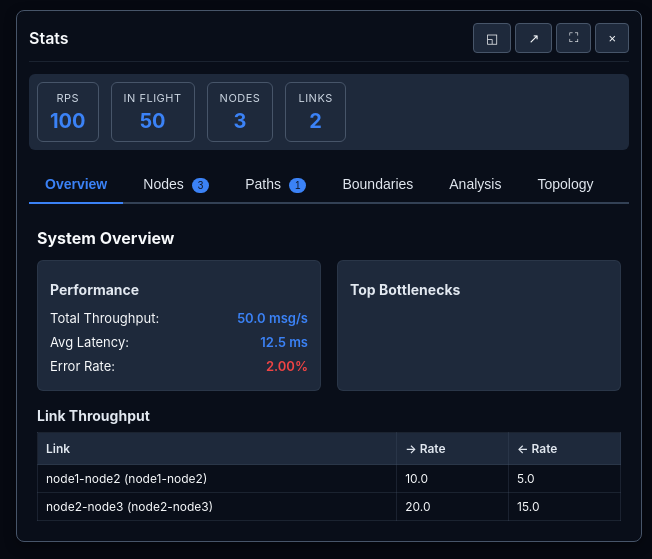
Scenario: StatsOverlayEnhanced › displays path analysis tab
What coordinates should you click on to do the following:
click the button with class "stats-tab" showing "Paths 1"
I would click on:
 (276, 184)
Its box is [229,166,322,202].
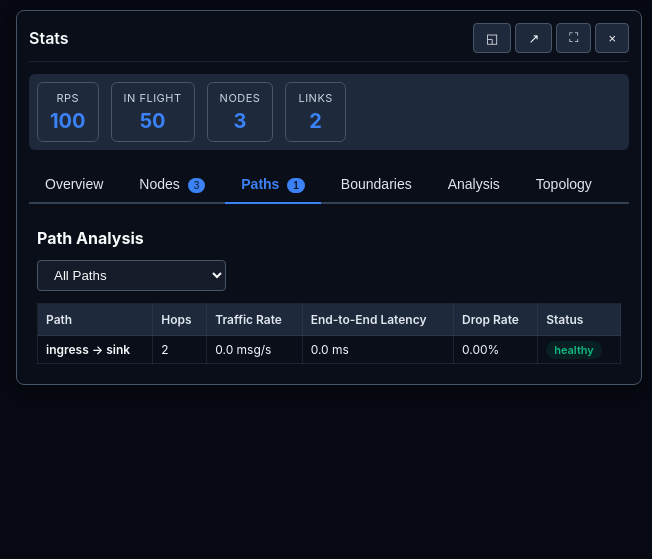
Expected: the element with class "tab-panel" shows "Path Analysis", [37,228,144,248]
Expected: the dropdown is shown, [37,260,226,291]
